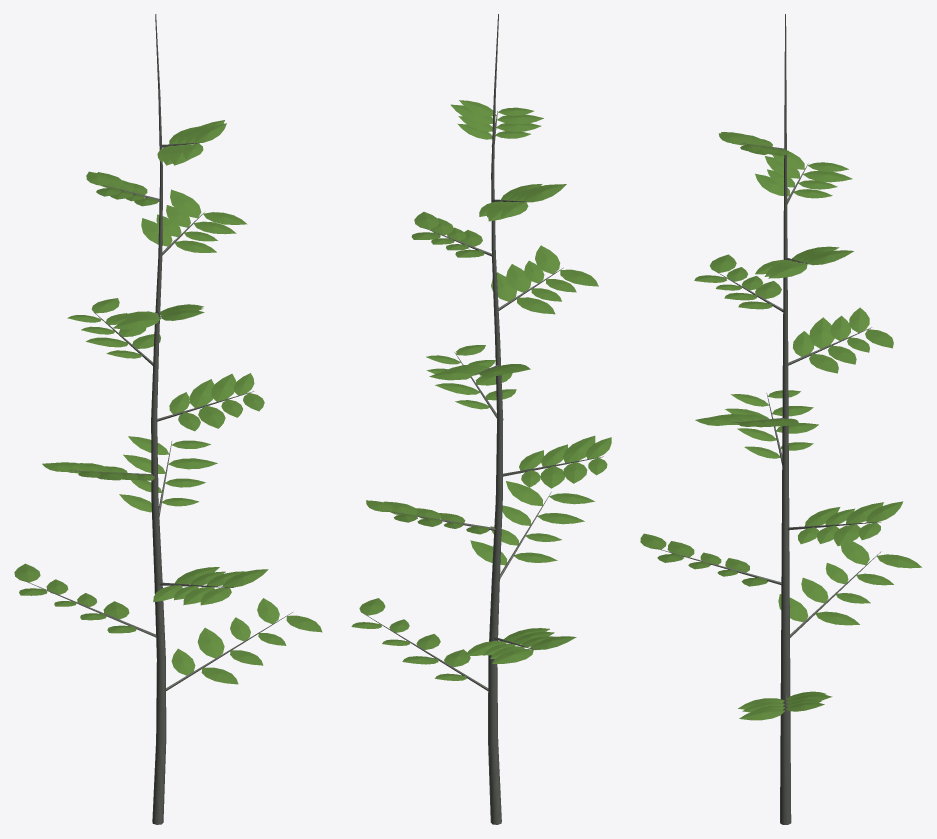
The model's file is Beech_Sapling_01_LOD0.fbx.
3 views of the same model, side by side, from view 1: azimuth 30°, elevation 25°; view 2: azimuth 150°, elevation 25°; view 3: azimuth 270°, elevation 25° (orthographic).
Visible parts, largest first — view 1: Beech_Sapling_01_LOD0_Foliage, Beech_Sapling_01_LOD0_Woody; view 2: Beech_Sapling_01_LOD0_Foliage, Beech_Sapling_01_LOD0_Woody; view 3: Beech_Sapling_01_LOD0_Foliage, Beech_Sapling_01_LOD0_Woody.
Boxes of the visible parts, x1=… form: Beech_Sapling_01_LOD0_Foliage: x1=14, y1=120, x2=322, y2=684; Beech_Sapling_01_LOD0_Woody: x1=22, y1=14, x2=292, y2=824; Beech_Sapling_01_LOD0_Foliage: x1=351, y1=100, x2=611, y2=680; Beech_Sapling_01_LOD0_Woody: x1=361, y1=14, x2=603, y2=824; Beech_Sapling_01_LOD0_Foliage: x1=640, y1=132, x2=921, y2=720; Beech_Sapling_01_LOD0_Woody: x1=655, y1=14, x2=881, y2=824.
Bounding box in the file's own units: 66.15 × 200 × 63.33.
